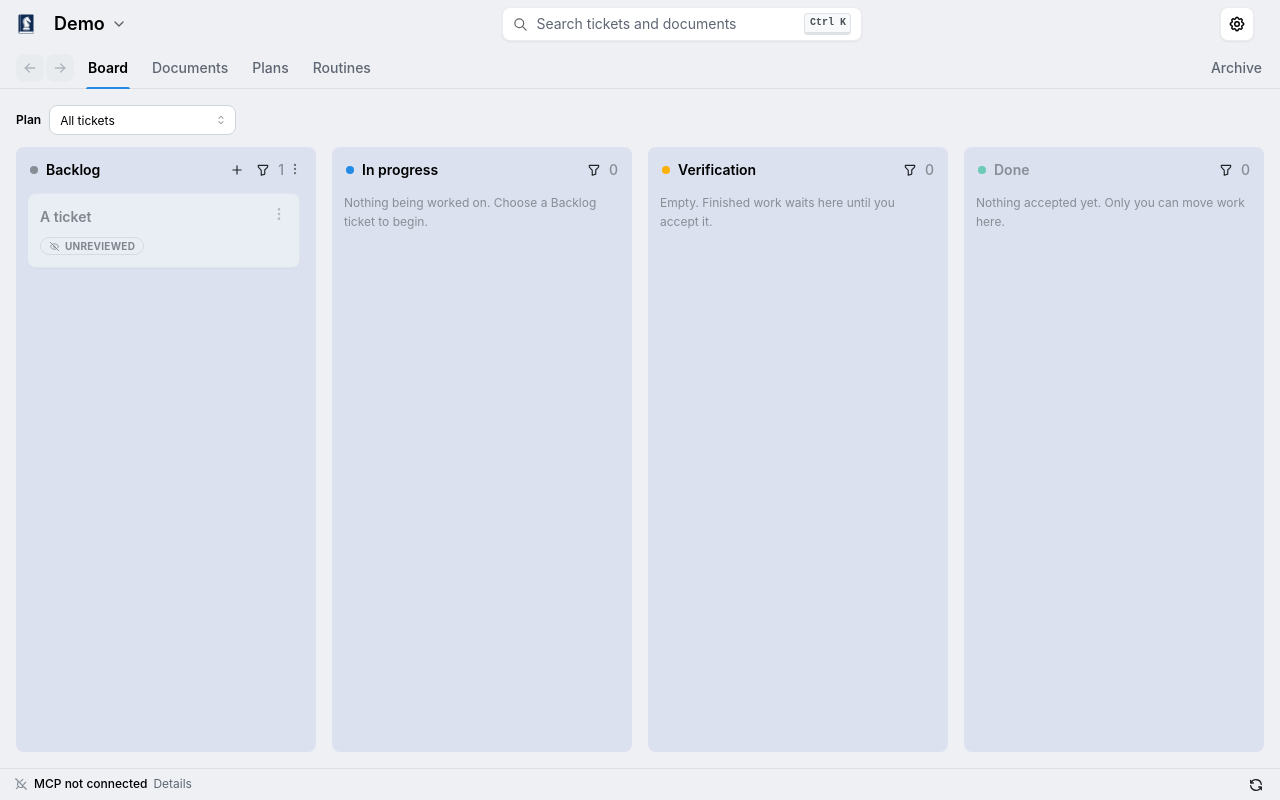
Test: opening a ticket's file externally › says so when the editor could not open it, instead of looking like it worked
Step 1. Click the text "A ticket" → (66, 216), box [40,208,91,225]
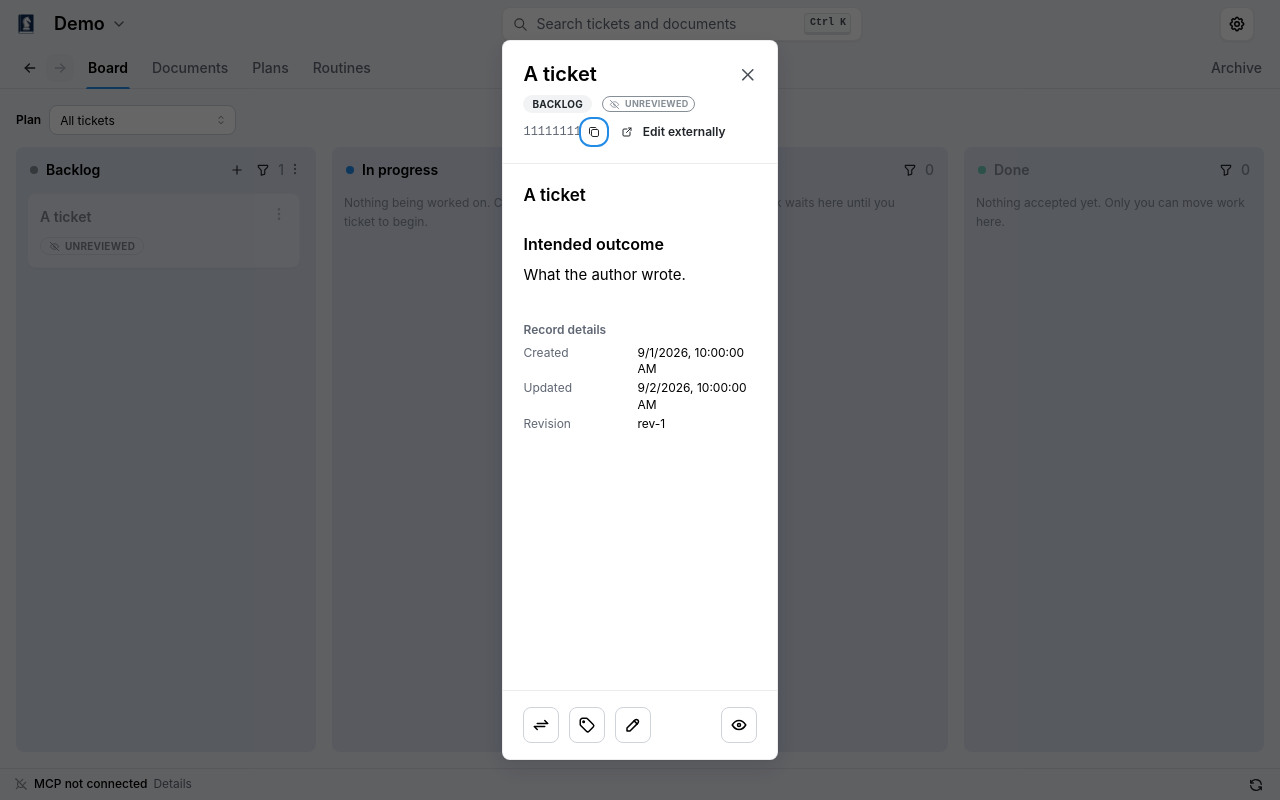
Step 2. Click the button "Edit externally" → (674, 132), box [615,121,734,143]
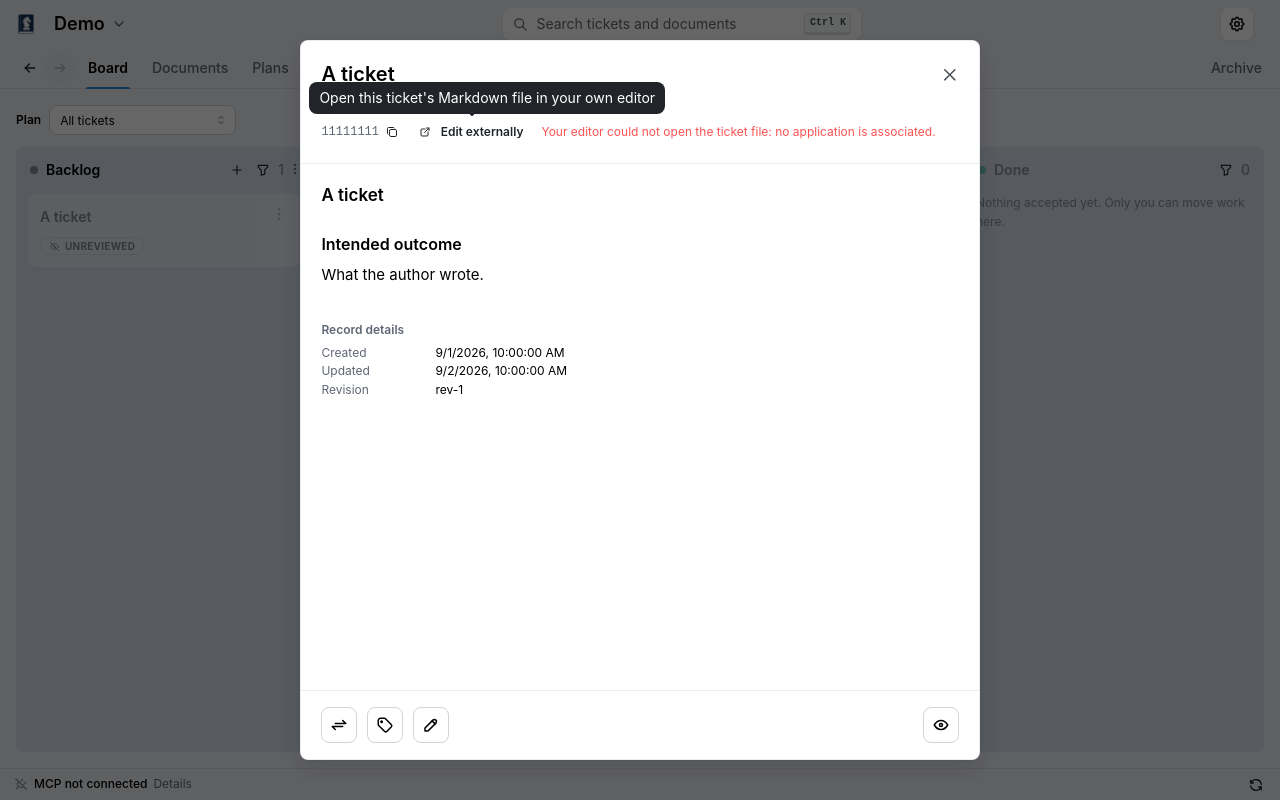
expect the message shows "could not open": met, box [542,124,936,139]
